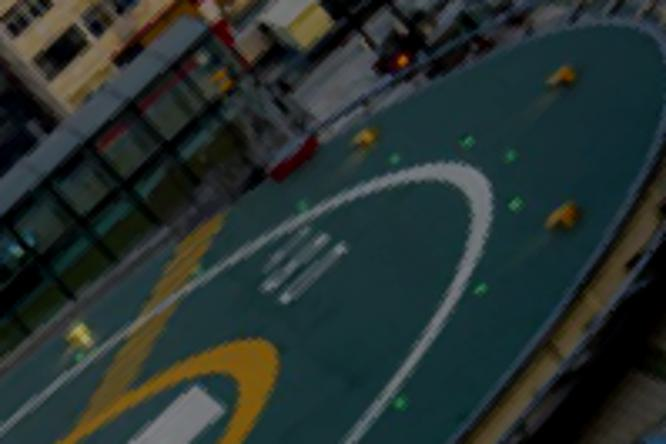Apron: (59, 332, 287, 444)
